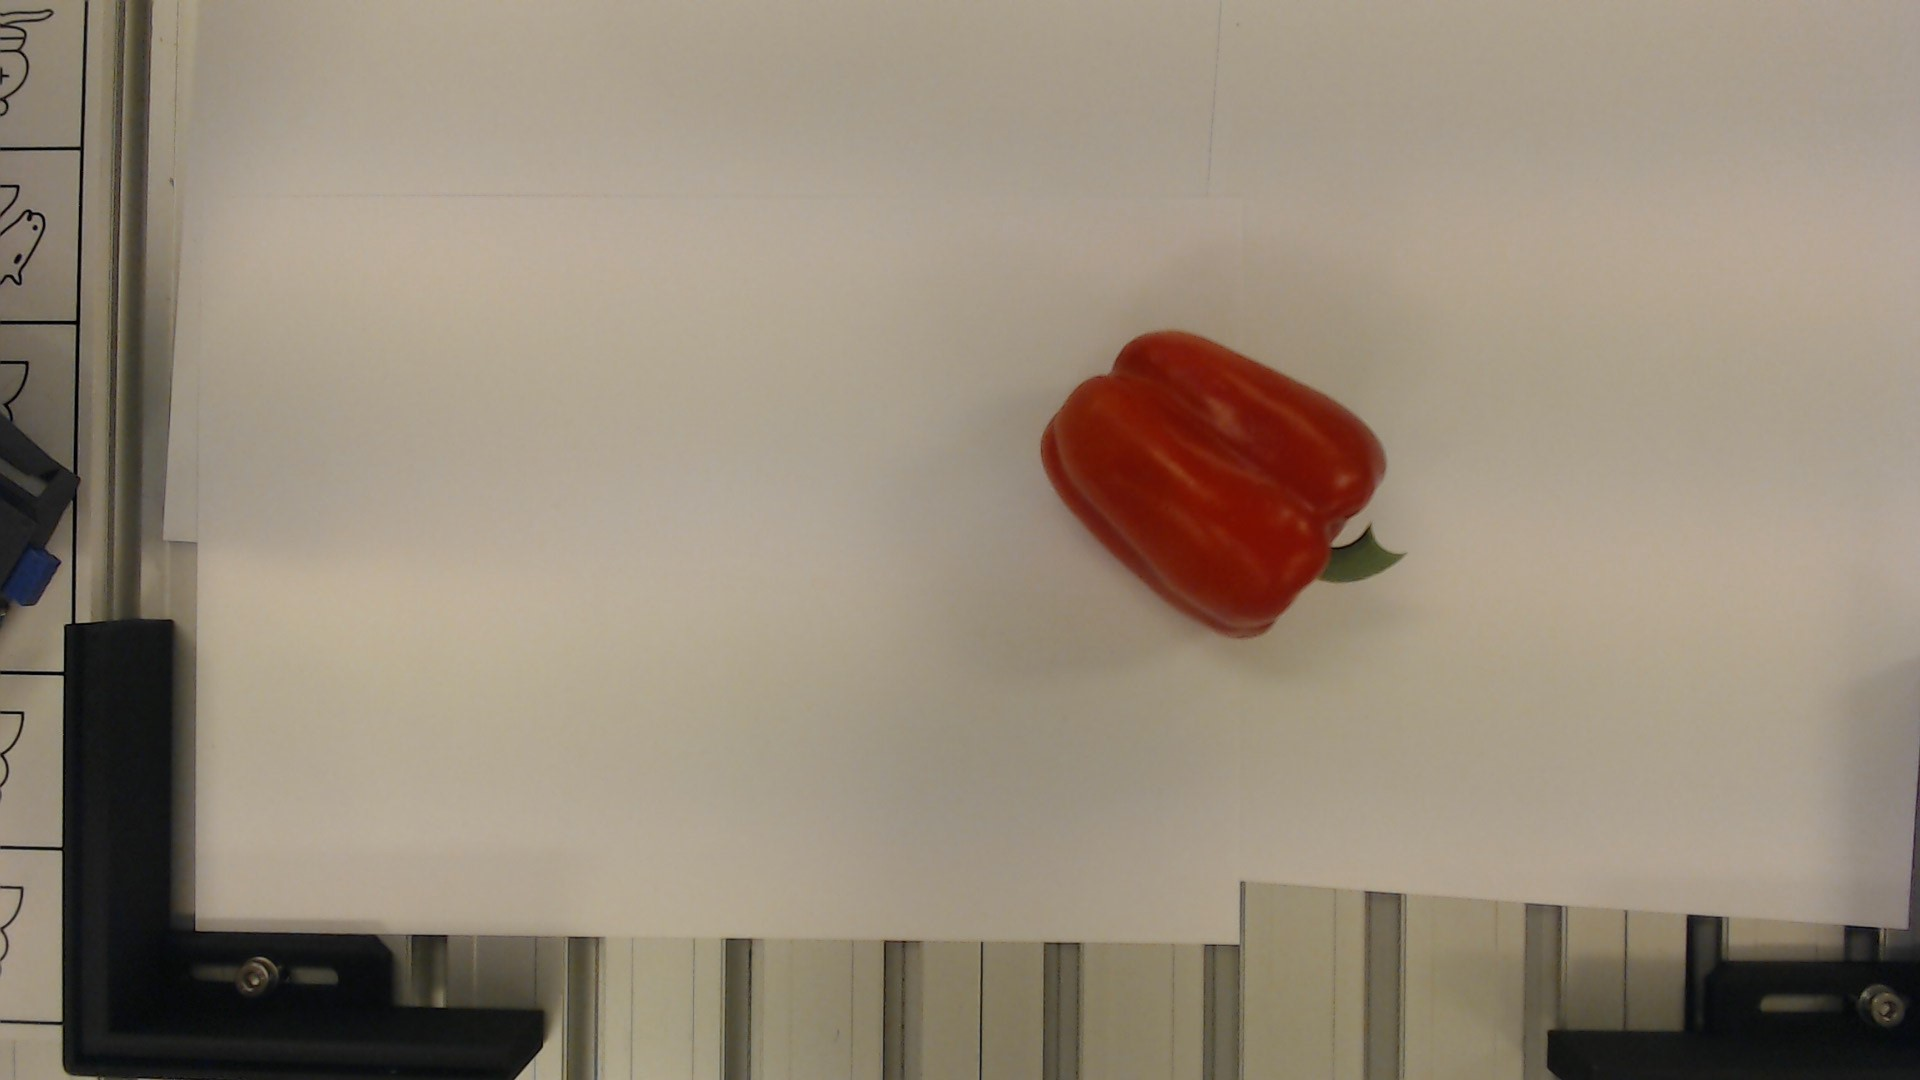Red Bell Pepper: (1022, 316, 1419, 646)
